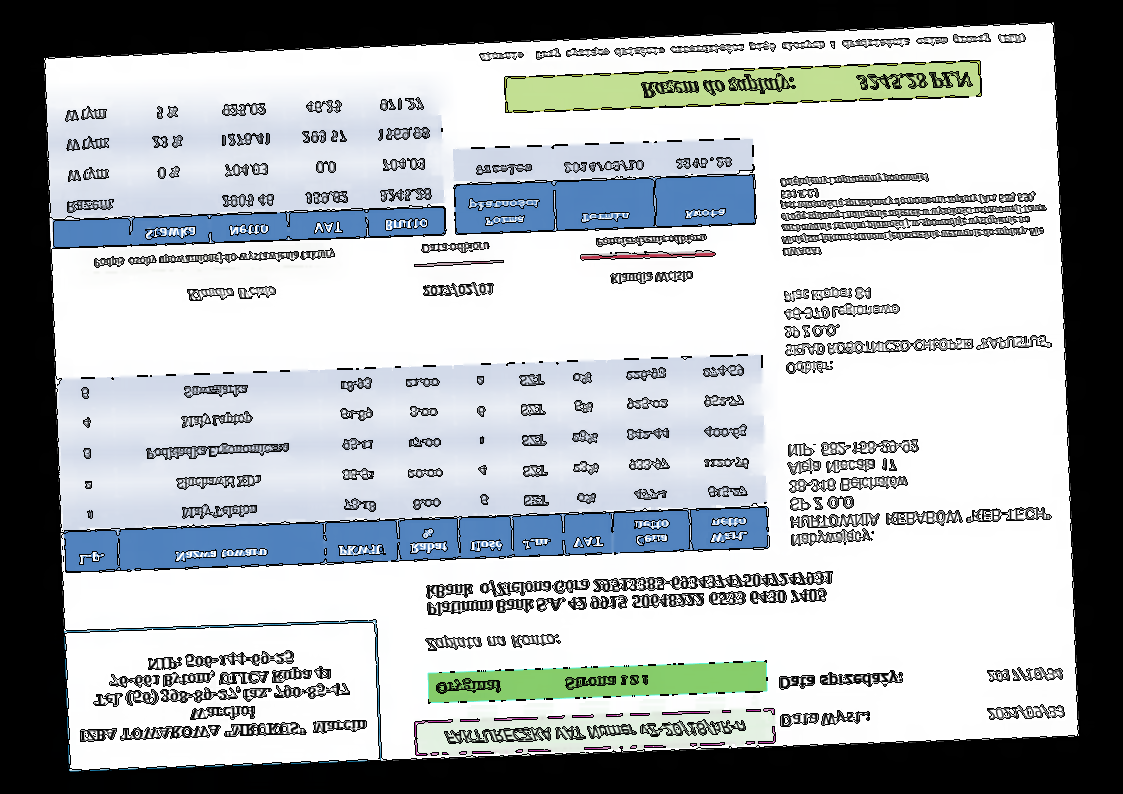Table: (57, 352, 770, 575), (46, 82, 446, 250), (451, 136, 758, 237)
TextBox: (786, 432, 1055, 549), (74, 644, 368, 746), (781, 276, 1055, 377), (777, 165, 1051, 260), (423, 569, 835, 618), (476, 31, 1029, 64), (638, 65, 974, 102), (441, 716, 749, 748), (433, 670, 651, 700), (92, 246, 338, 270), (423, 629, 563, 656), (775, 667, 906, 694), (779, 707, 873, 731), (183, 284, 278, 306), (593, 232, 709, 250), (984, 701, 1066, 724), (984, 665, 1065, 687), (607, 268, 694, 286), (419, 280, 496, 300), (419, 240, 489, 256)
